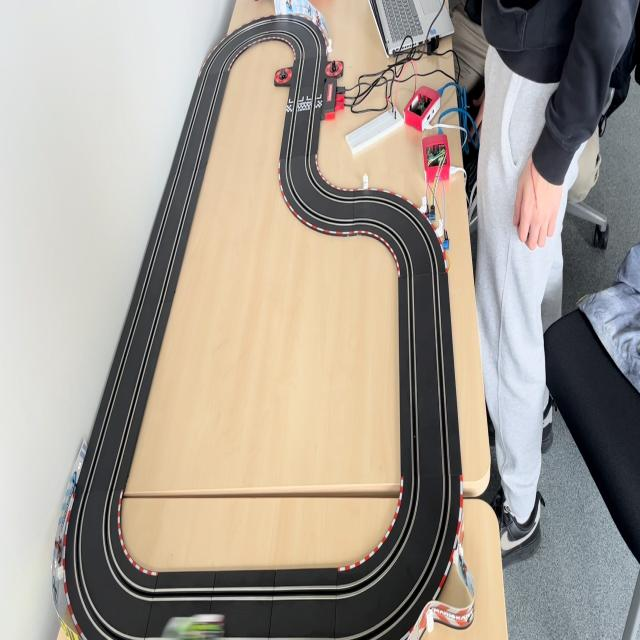yoshi: (154, 612, 229, 640)
